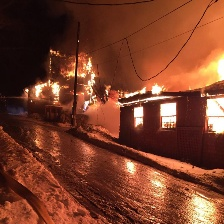fire: (23, 49, 97, 109), (117, 86, 183, 132), (201, 50, 224, 137)
smoke: (80, 3, 224, 77)
